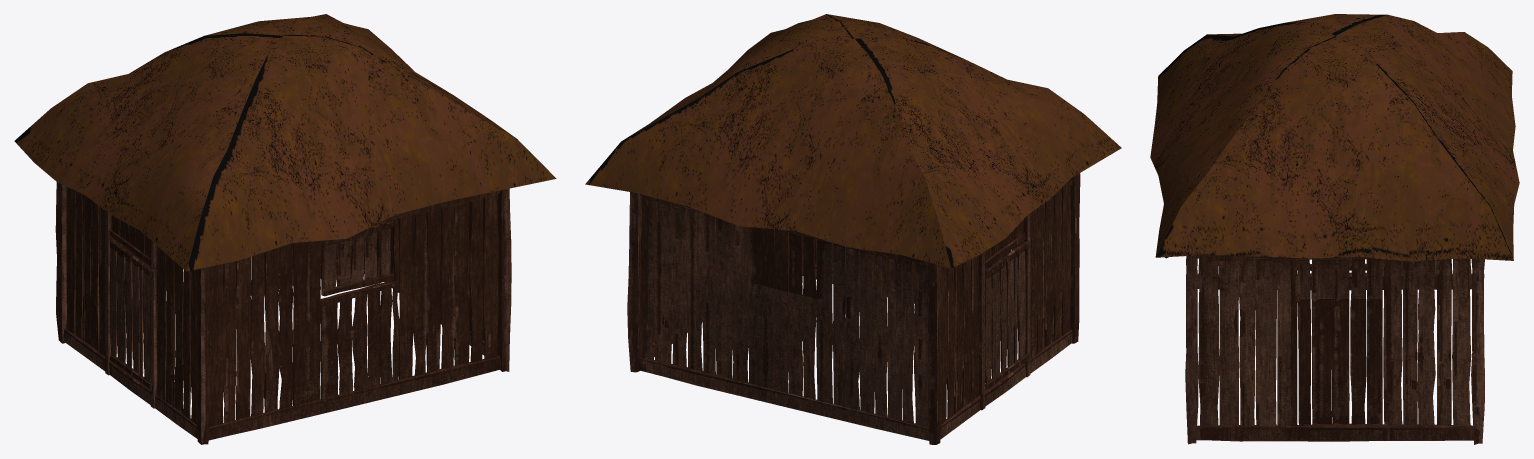
Rendered from woodshed.obj.
3 renders of one model, left to right at view 1: azimuth 30°, elevation 25°; view 2: azimuth 150°, elevation 25°; view 3: azimuth 270°, elevation 25°, orthographic. The views are drawn at different scales.
Visible parts, largest first — view 1: woodshed; view 2: woodshed; view 3: woodshed.
Boxes of the visible parts, box(x1,y1,x2,y2) form: woodshed: box(14, 14, 556, 444); woodshed: box(585, 14, 1121, 444); woodshed: box(1150, 14, 1519, 444).
Bounding box in the file's own units: 627 × 514 × 516.
3 materials, 3 textured.
